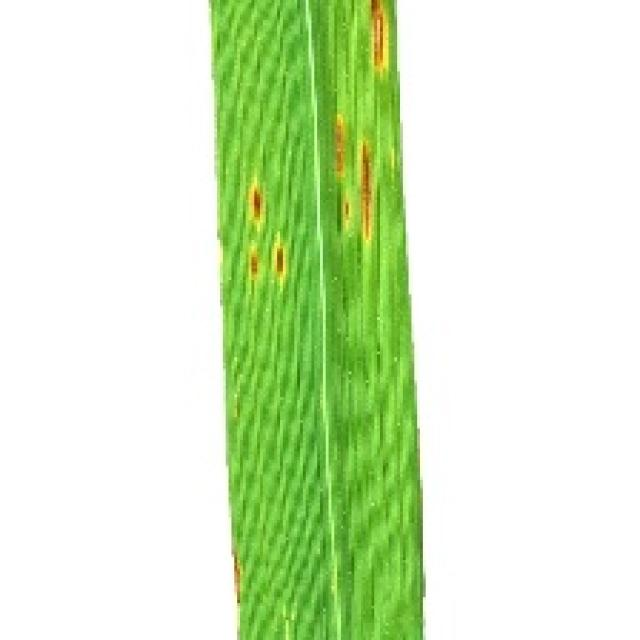Unhealthy: (360, 143, 377, 240), (369, 0, 389, 74), (246, 183, 266, 229), (334, 114, 346, 177), (271, 240, 289, 277), (234, 557, 243, 597), (246, 251, 257, 277), (343, 197, 354, 223)
